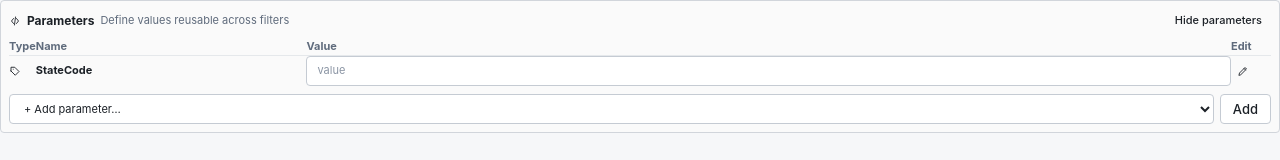
Test: ParameterEditor › hides the parameter table when "Hide parameters" is clicked
The image size is (1280, 160).
Expected: the text "StateCode" is shown, [36,63,92,77]
Click the button "Hide parameters": coordinates (1218, 21) [1166,9,1271,33]
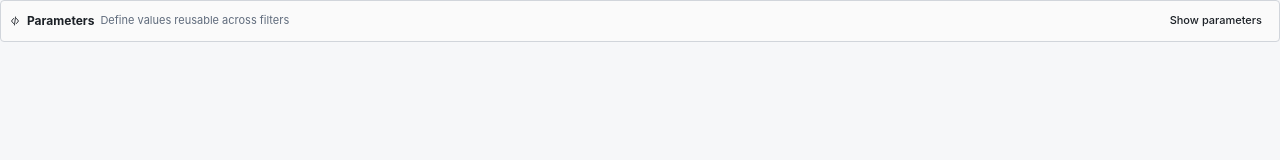
Expected: the text "StateCode" is gone
